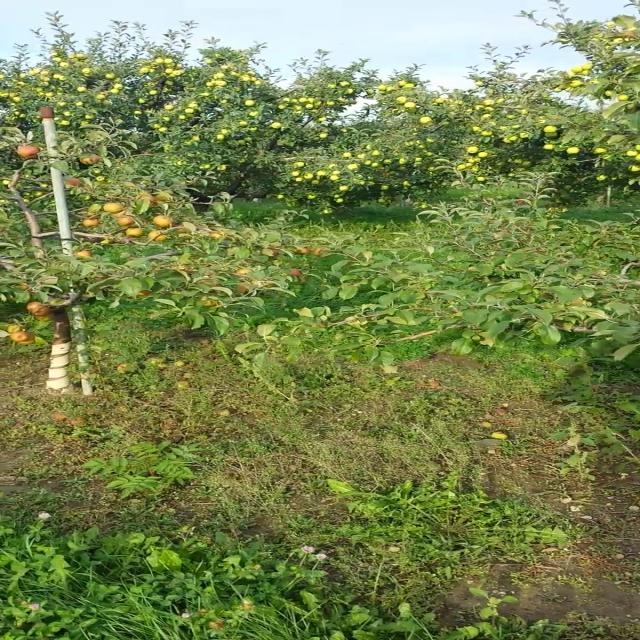apple: (16, 145, 38, 159), (28, 302, 50, 314), (78, 153, 99, 165), (138, 192, 156, 206), (151, 215, 170, 227), (148, 229, 167, 241), (201, 296, 220, 308), (18, 332, 36, 344), (102, 203, 123, 213), (5, 324, 28, 333), (34, 311, 54, 321), (125, 226, 142, 236), (235, 268, 252, 278), (10, 332, 28, 341), (118, 216, 134, 226), (313, 247, 329, 257), (67, 177, 80, 187), (82, 218, 98, 226), (210, 231, 225, 239), (296, 247, 310, 255), (136, 290, 153, 296), (235, 284, 246, 293), (78, 250, 92, 256), (290, 269, 300, 275)
